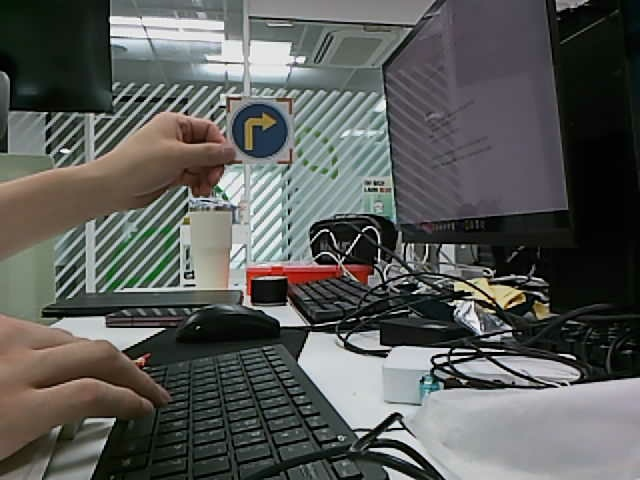right: (232, 103, 288, 159)
